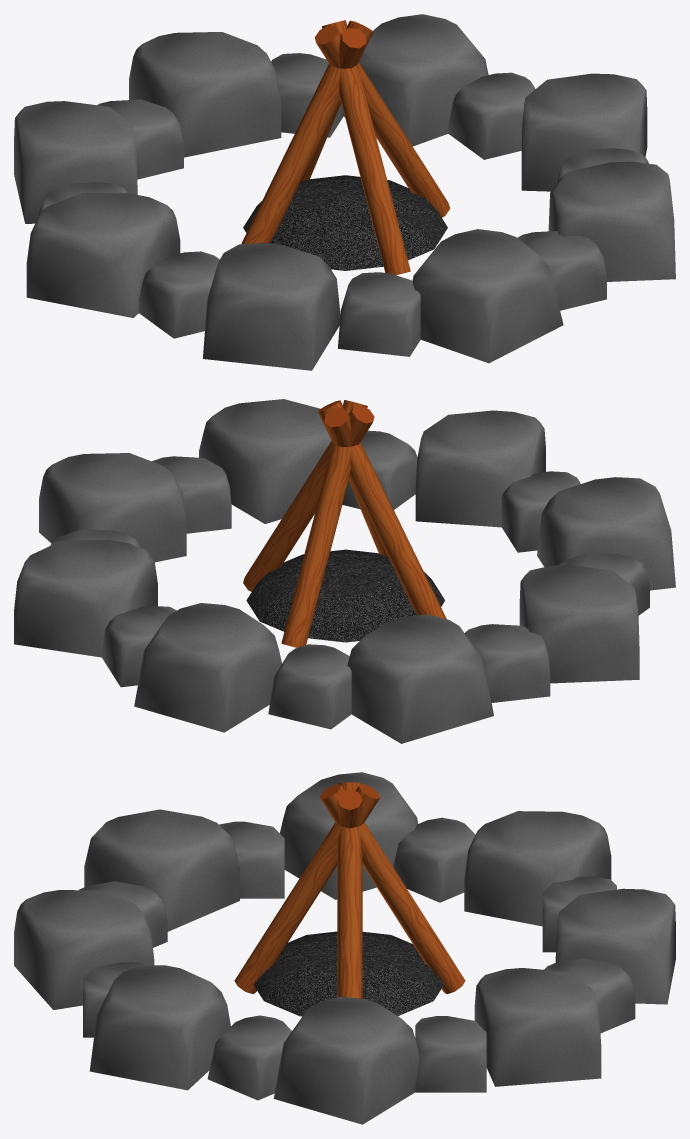
The model's file is 모닥불.fbx.
3 renders of one model, top to bottom at view 1: azimuth 30°, elevation 25°; view 2: azimuth 150°, elevation 25°; view 3: azimuth 270°, elevation 25°, orthographic. The views are drawn at different scales.
Visible parts, largest first — view 1: Sphere001; view 2: Sphere001; view 3: Sphere001.
Boxes of the visible parts, x1,y1,x2,y2 form: Sphere001: [14, 14, 675, 370]; Sphere001: [14, 399, 675, 743]; Sphere001: [14, 772, 675, 1124].
Size of the model in its own units: 1.42 by 0.4714 by 1.37.
Materials: 1 (1 with a texture image).
